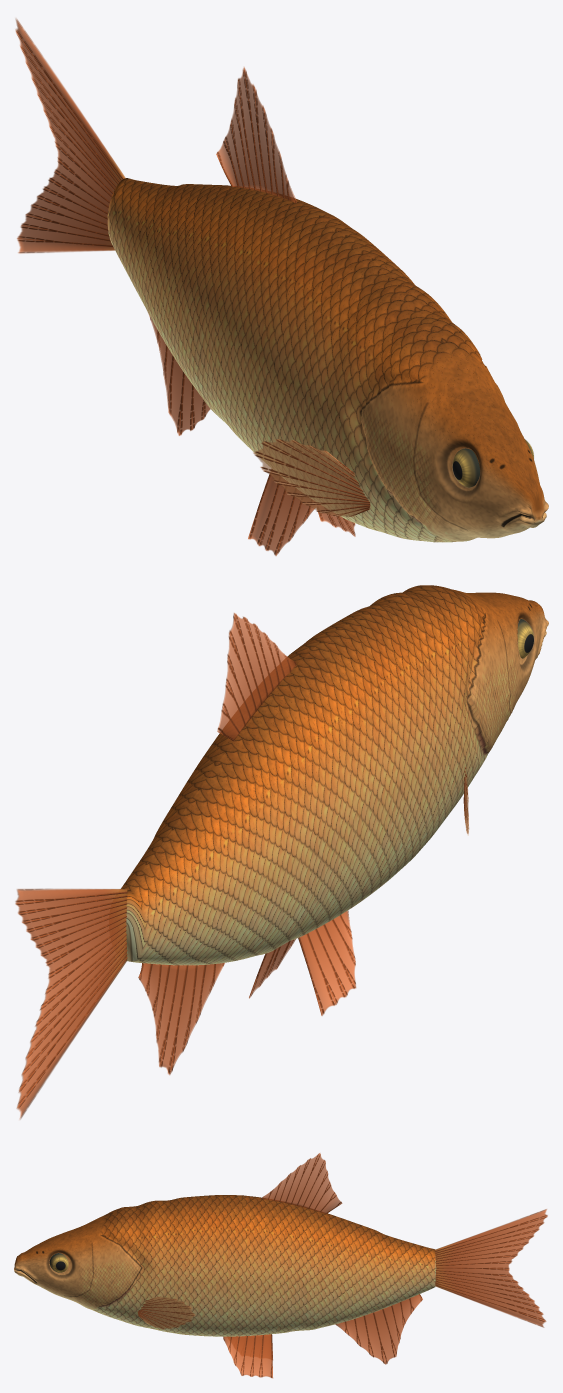
File: orfa.glb
3 renders of one model, top to bottom at view 1: azimuth 30°, elevation 25°; view 2: azimuth 150°, elevation 25°; view 3: azimuth 270°, elevation 25°, orthographic. The views are drawn at different scales.
Visible parts, largest first — view 1: Body, FinCaudal, FinPectoral, FinDorsal1, FinPelvic, FinAnal, EyeLeft; view 2: Body, FinCaudal, FinDorsal1, FinAnal, FinPelvic; view 3: Body, FinCaudal, FinAnal, FinDorsal1, FinPelvic, FinPectoral, EyeRight.
Boxes of the visible parts, x1,y1,x2,y2 form: Body: [107, 178, 548, 542]; FinCaudal: [15, 18, 125, 253]; FinPectoral: [253, 439, 370, 516]; FinDorsal1: [216, 67, 296, 202]; FinPelvic: [248, 469, 355, 555]; FinAnal: [148, 313, 210, 435]; EyeLeft: [452, 448, 479, 487]; Body: [121, 585, 548, 965]; FinCaudal: [15, 888, 127, 1119]; FinDorsal1: [217, 613, 296, 741]; FinAnal: [138, 963, 224, 1075]; FinPelvic: [249, 910, 356, 1015]; Body: [14, 1195, 436, 1336]; FinCaudal: [435, 1209, 547, 1327]; FinAnal: [335, 1294, 422, 1364]; FinDorsal1: [262, 1153, 342, 1213]; FinPelvic: [223, 1334, 272, 1378]; FinPectoral: [137, 1296, 195, 1329]; EyeRight: [49, 1253, 68, 1272].
Bounding box in the file's own units: 0.2372 × 0.45 × 0.9984.
8 materials, 7 textured.
